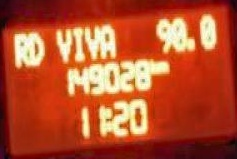-: (185, 35, 195, 50)
0: (128, 97, 146, 133), (199, 12, 215, 48), (171, 15, 186, 50), (103, 60, 118, 92)
1: (80, 103, 89, 137), (97, 102, 106, 135), (66, 67, 73, 95)
2: (111, 99, 128, 135), (118, 59, 133, 90)
4: (72, 65, 88, 94)
8: (132, 57, 149, 90)
9: (153, 17, 171, 52), (88, 62, 102, 93)
X: (98, 22, 116, 57), (27, 30, 43, 65), (55, 27, 71, 62), (12, 30, 27, 67), (83, 24, 98, 59), (71, 25, 83, 60), (103, 105, 111, 130), (159, 57, 170, 75), (150, 55, 159, 75)
